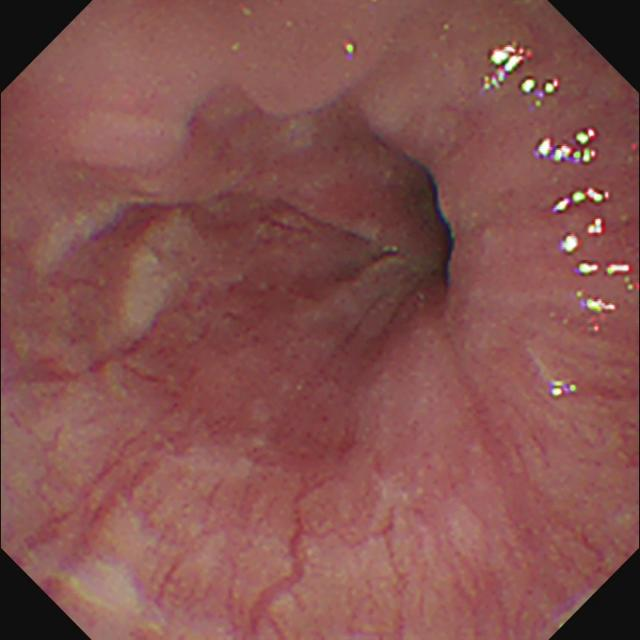A: (256, 416, 360, 469)
E: (409, 166, 466, 300)
J: (61, 497, 169, 638), (119, 209, 200, 338)
U: (480, 39, 536, 93), (534, 129, 599, 163), (553, 188, 613, 214), (521, 77, 562, 110), (581, 298, 617, 313), (560, 232, 582, 256), (552, 380, 578, 400), (574, 262, 601, 277), (588, 219, 607, 236), (607, 263, 631, 276)
